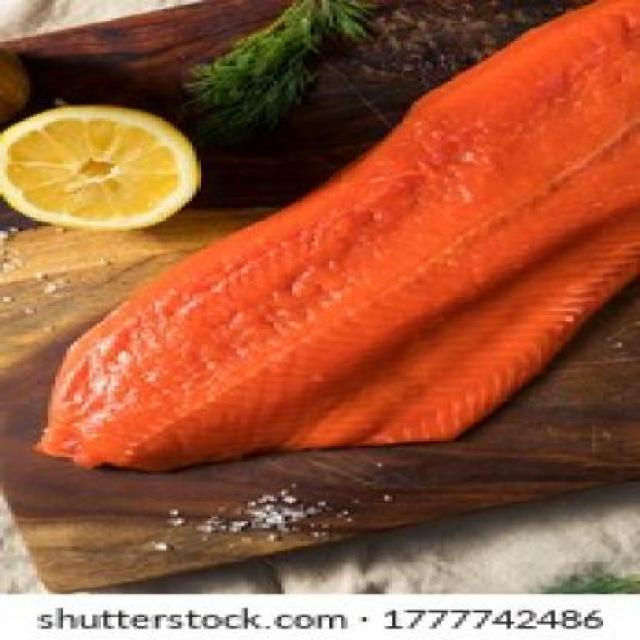salmon: (48, 8, 639, 467)
